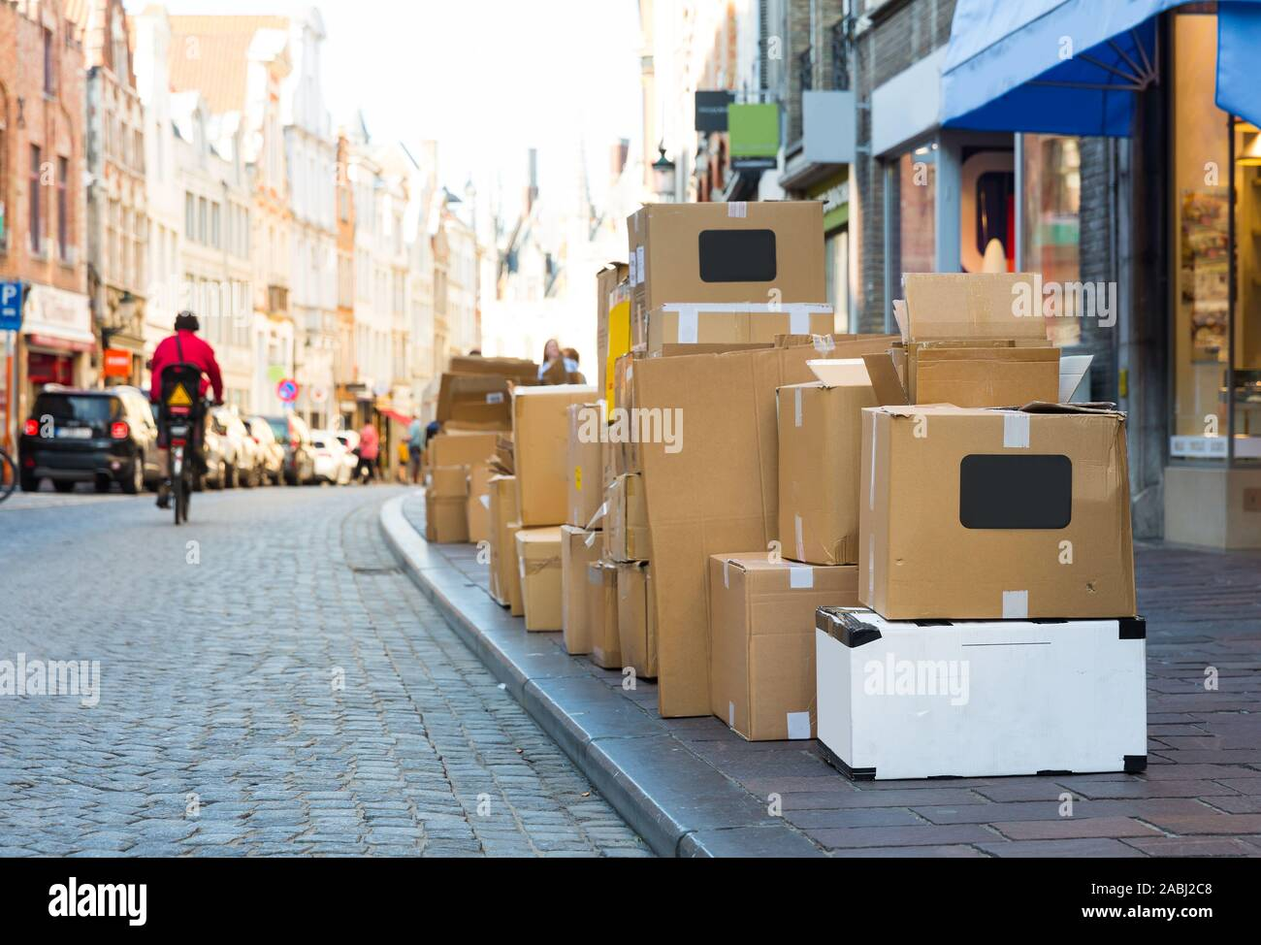DeliveryBox: (582, 342, 873, 748), (792, 595, 1177, 826), (839, 393, 1162, 640), (404, 343, 630, 666), (602, 199, 858, 316)
